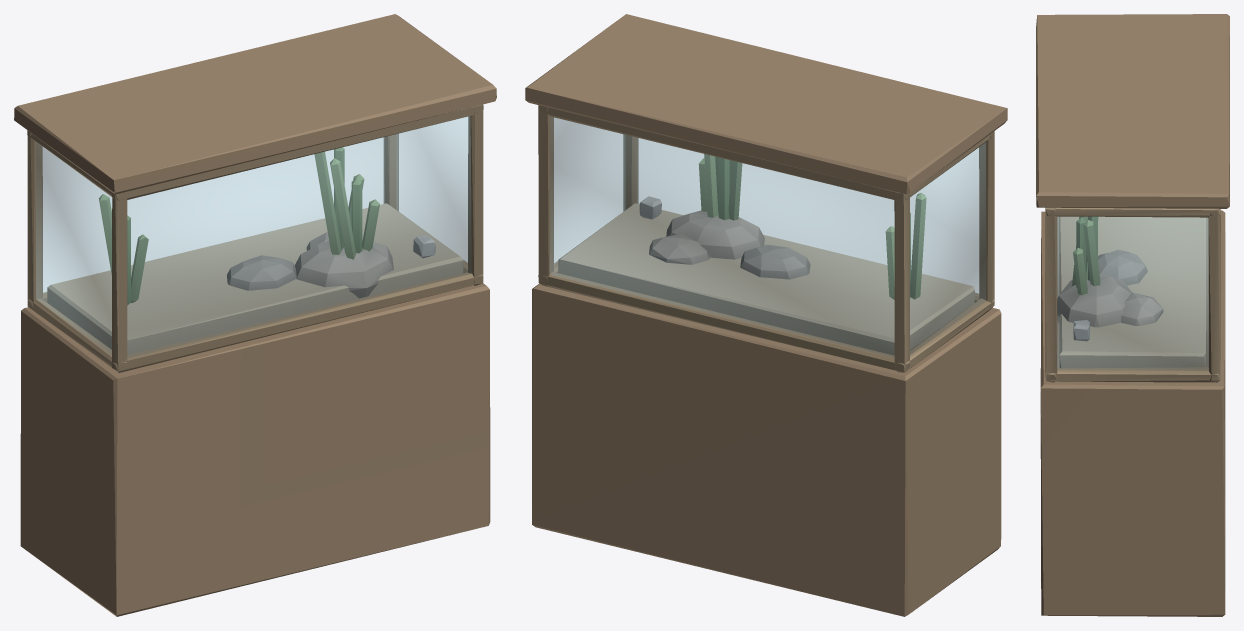
The model's file is furn_fish_tank__walnut_low.glb.
3 renders of one model, left to right at view 1: azimuth 30°, elevation 25°; view 2: azimuth 150°, elevation 25°; view 3: azimuth 270°, elevation 25°, orthographic. The views are drawn at different scales.
Size of the model in its own units: 0.92 by 1.01 by 0.4154.
